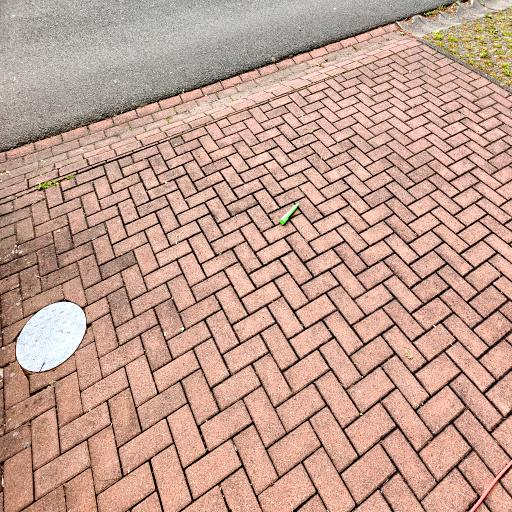Probe-Detection: (280, 204, 298, 225)
